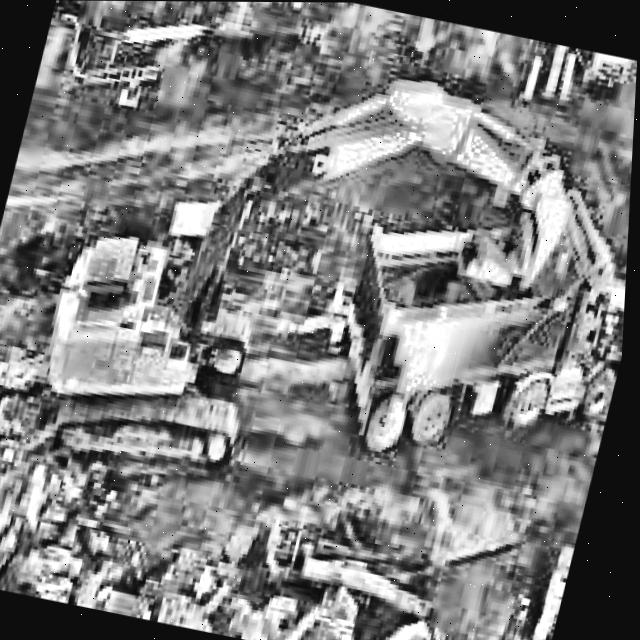dump_truck: (313, 138, 634, 491)
excavator: (15, 5, 603, 542)
